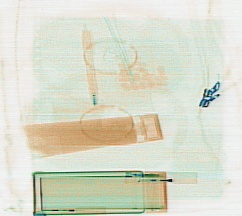lighter: (132, 168, 197, 185)
